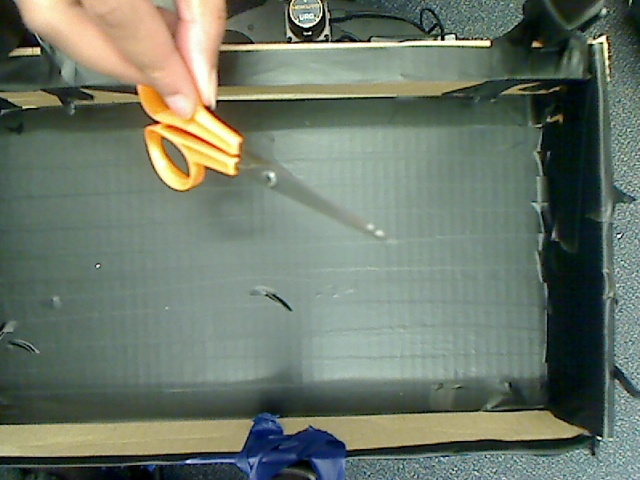scissors: (130, 71, 406, 262)
